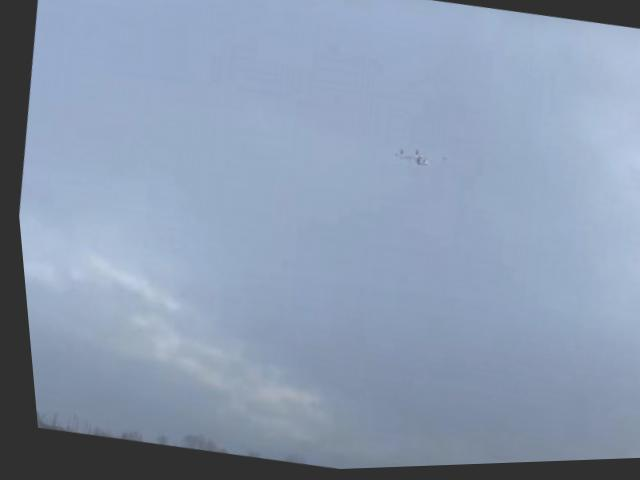iha: (387, 149, 441, 176)
